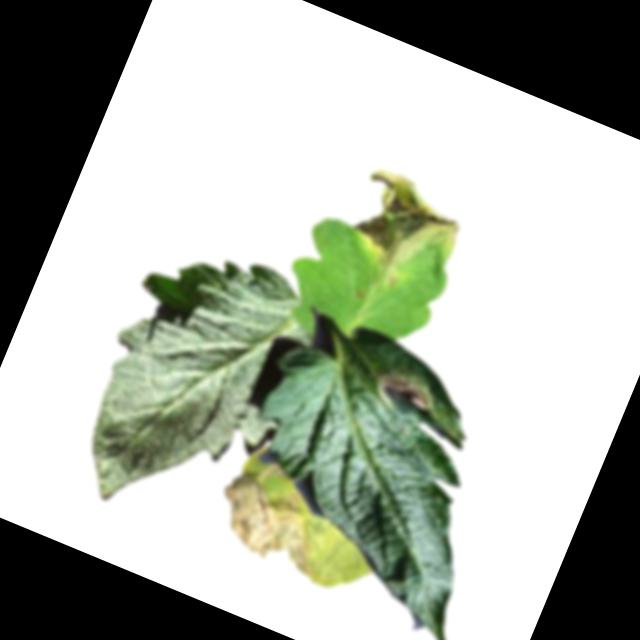Late_blight: (339, 163, 473, 291), (203, 465, 339, 582), (374, 369, 436, 414)
